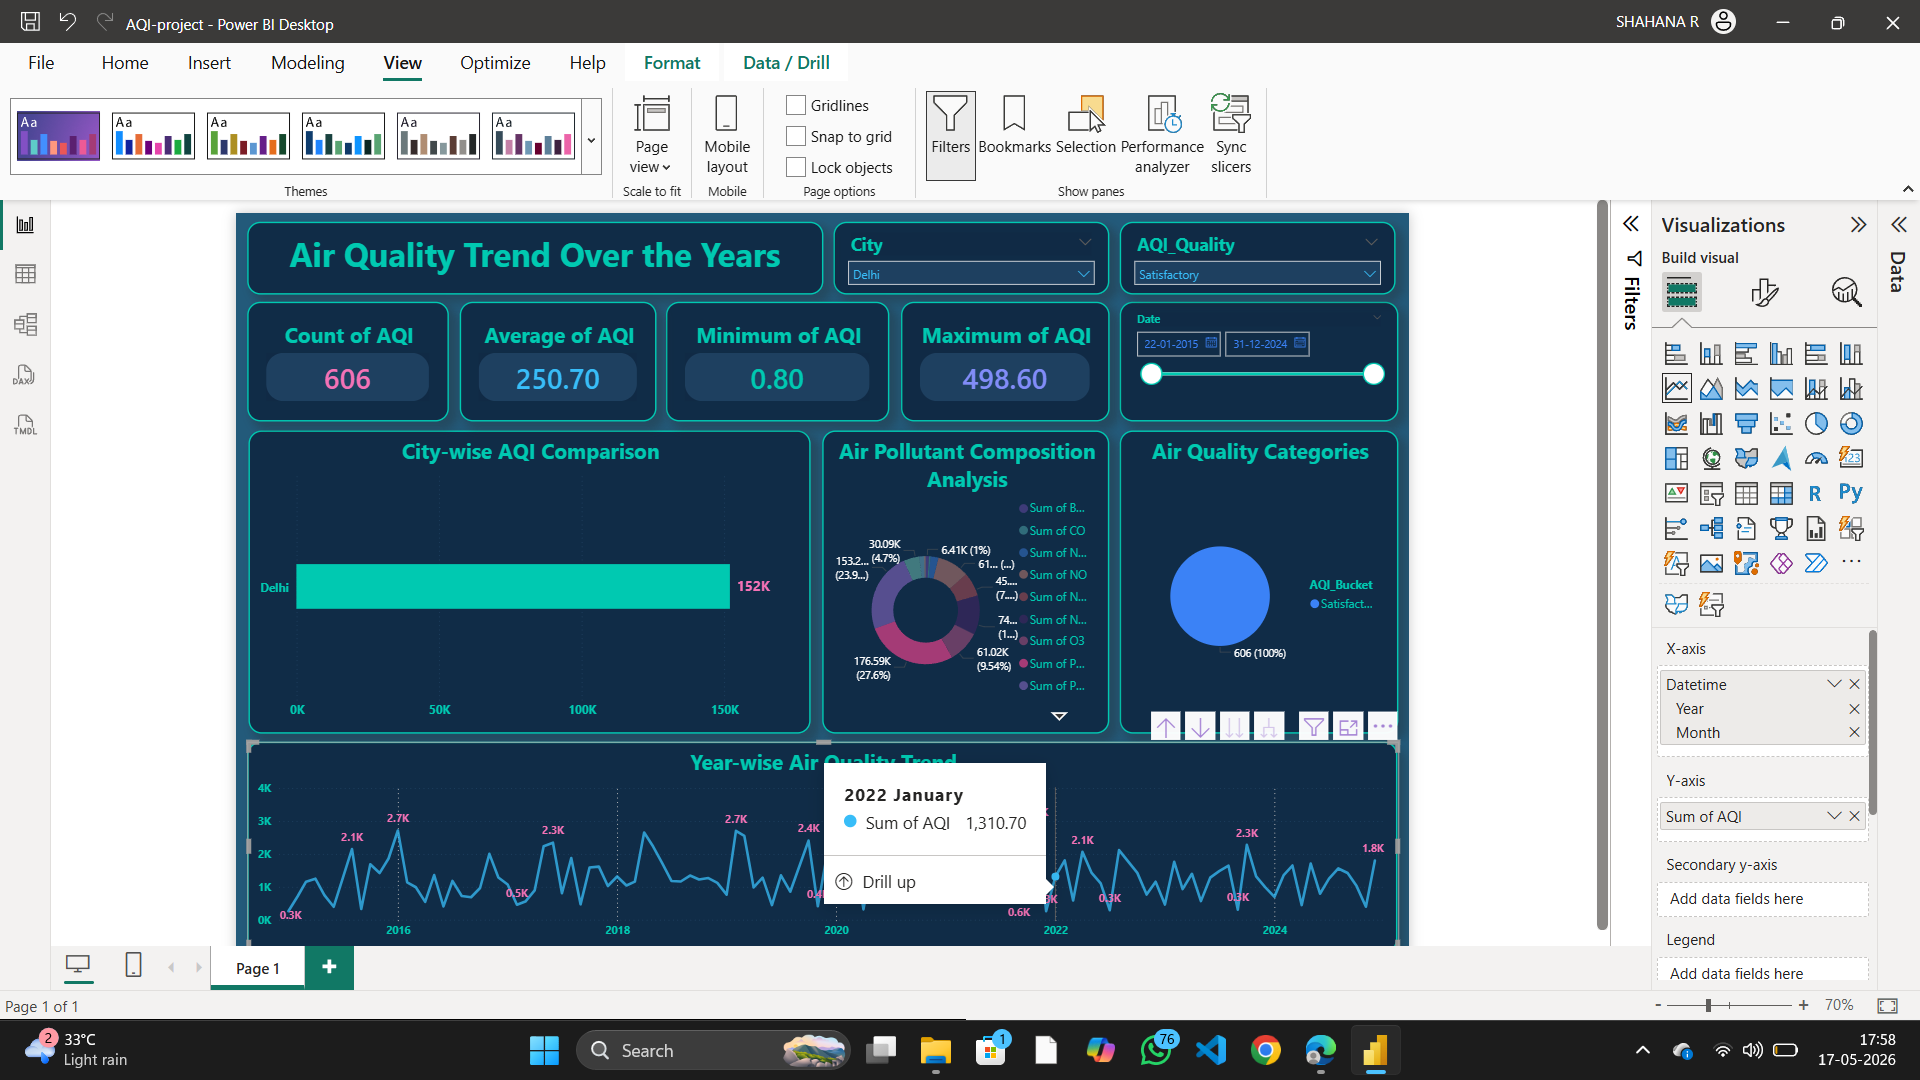

This screenshot's page, from the dashboard's own definition file:
{"tool":"powerbi","page":{"name":"Page 1","canvas":[1340,856],"ordinal":0},"visuals":[{"type":"clusteredBarChart","title":"City-wise AQI Comparison","fields":{"Category":["city_day.City"],"Y":["Sum(city_day.AQI)"]},"box":[14,248,642,346],"z":0},{"type":"slicer","fields":{"Values":["city_day.City"]},"box":[683.3,10,315,83.3],"z":2000},{"type":"slicer","fields":{"Values":["city_day.Datetime"]},"box":[1010,101.7,318.3,136.7],"z":3000},{"type":"slicer","fields":{"Values":["city_day.AQI_Bucket"]},"box":[1010,10,315,83.3],"z":4000},{"type":"lineChart","title":"Year-wise Air Quality Trend","fields":{"Y":["Sum(city_day.AQI)"],"Category":["city_day.Datetime.Variation.Date Hierarchy.Year","city_day.Datetime.Variation.Date Hierarchy.Month"]},"box":[13.5,604,1314.8,240.4],"z":6000},{"type":"textbox","box":[13.3,10,658.3,83.3],"z":7000},{"type":"cardVisual","title":"Count of AQI","fields":{"Data":["CountNonNull(city_day.AQI)"]},"box":[13.3,101.7,230,136.7],"z":8000},{"type":"cardVisual","title":"Maximum of AQI","fields":{"Data":["Max(city_day.AQI)"]},"box":[760,101.7,238.3,136.7],"z":9000},{"type":"cardVisual","title":"Minimum of AQI","fields":{"Data":["Min(city_day.AQI)"]},"box":[491.7,101.7,255,136.7],"z":10000},{"type":"cardVisual","title":"Average of AQI","fields":{"Data":["Avg(city_day.AQI)"]},"box":[255,101.7,225,136.7],"z":11000},{"type":"pieChart","title":"Air Quality Categories","fields":{"Category":["city_day.AQI_Bucket"],"Y":["CountNonNull(city_day.AQI_Bucket)"]},"box":[1010,248.3,318.3,346.7],"z":11001},{"type":"donutChart","title":"Air Pollutant Composition Analysis","fields":{"Y":["Sum(city_day.Benzene)","Sum(city_day.CO)","Sum(city_day.NH3)","Sum(city_day.NO)","Sum(city_day.NO2)","Sum(city_day.NOx)","Sum(city_day.O3)","Sum(city_day.PM10)","Sum(city_day.PM2.5)","Sum(city_day.SO2)","Sum(city_day.Toluene)","Sum(city_day.Xylene)"]},"box":[670,248.3,328.3,346.7],"z":11002}]}

Visuals, with their boxes on the page's 1340x856 design canvas (x1, y1, x2, y2). These are canvas units, not pixel positions in the 1920x1080 screenshot, which may show the page scaled, cropped or inside an application window:
"City-wise AQI Comparison" clusteredBarChart: bbox=[14, 248, 656, 594]
slicer - city_day.City: bbox=[683, 10, 998, 93]
slicer - city_day.Datetime: bbox=[1010, 102, 1328, 238]
slicer - city_day.AQI_Bucket: bbox=[1010, 10, 1325, 93]
"Year-wise Air Quality Trend" lineChart: bbox=[14, 604, 1328, 844]
textbox: bbox=[13, 10, 672, 93]
"Count of AQI" cardVisual: bbox=[13, 102, 243, 238]
"Maximum of AQI" cardVisual: bbox=[760, 102, 998, 238]
"Minimum of AQI" cardVisual: bbox=[492, 102, 747, 238]
"Average of AQI" cardVisual: bbox=[255, 102, 480, 238]
"Air Quality Categories" pieChart: bbox=[1010, 248, 1328, 595]
"Air Pollutant Composition Analysis" donutChart: bbox=[670, 248, 998, 595]
